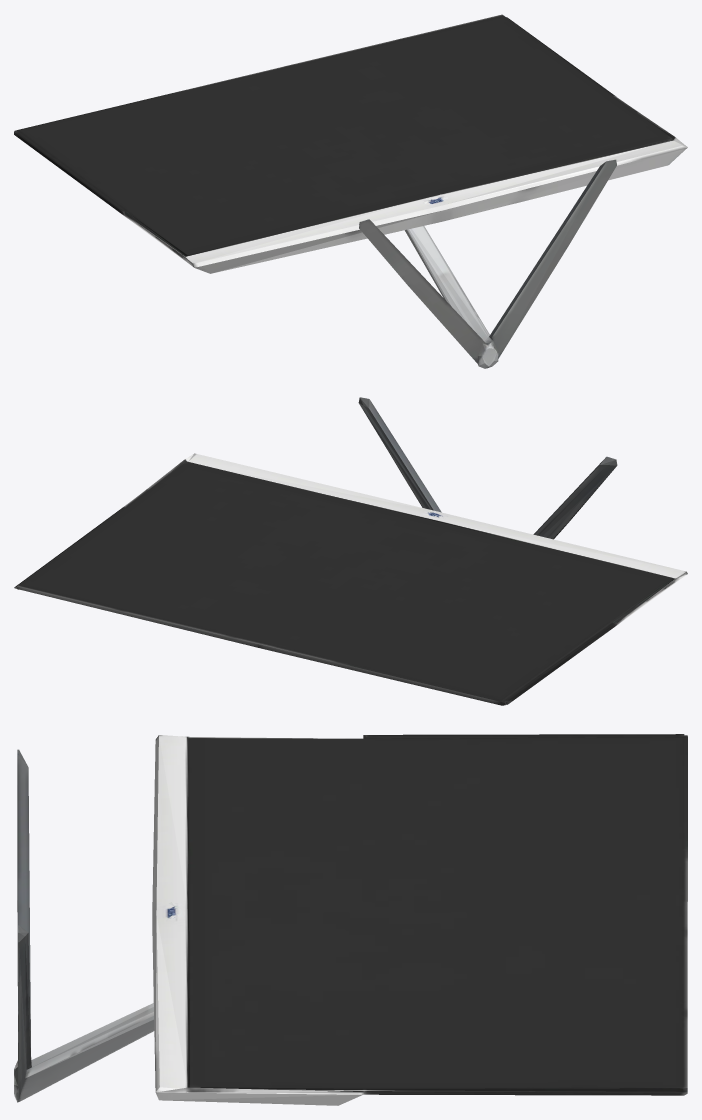
File: 24_monitor.glb
3 renders of one model, top to bottom at view 1: azimuth 30°, elevation 25°; view 2: azimuth 150°, elevation 25°; view 3: azimuth 270°, elevation 25°, orthographic. The views are drawn at different scales.
Parts seen in each view (by area): view 1: mesh_input; view 2: mesh_input; view 3: mesh_input.
Part boxes in pixels (box(x1,y1,x2,y2)): mesh_input: box(14, 14, 687, 368); mesh_input: box(14, 397, 687, 705); mesh_input: box(14, 734, 687, 1105).
Bounding box in the file's own units: 1.9 × 0.6561 × 1.53.
1 material, 1 textured.
